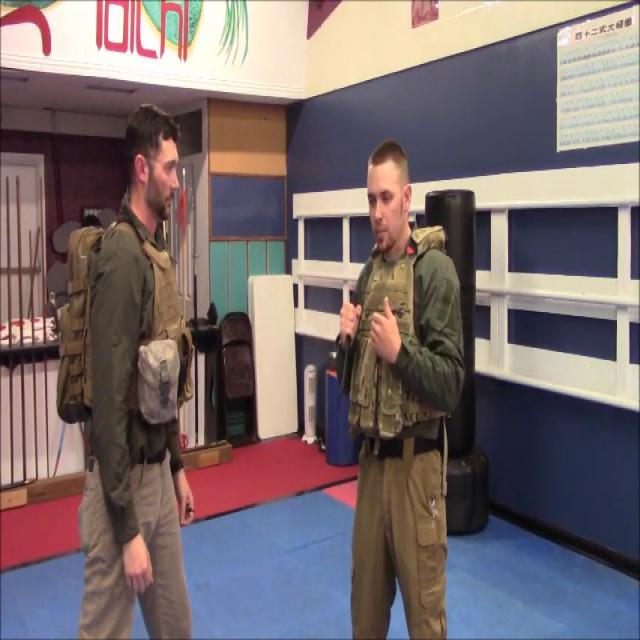knife: (331, 287, 369, 412)
